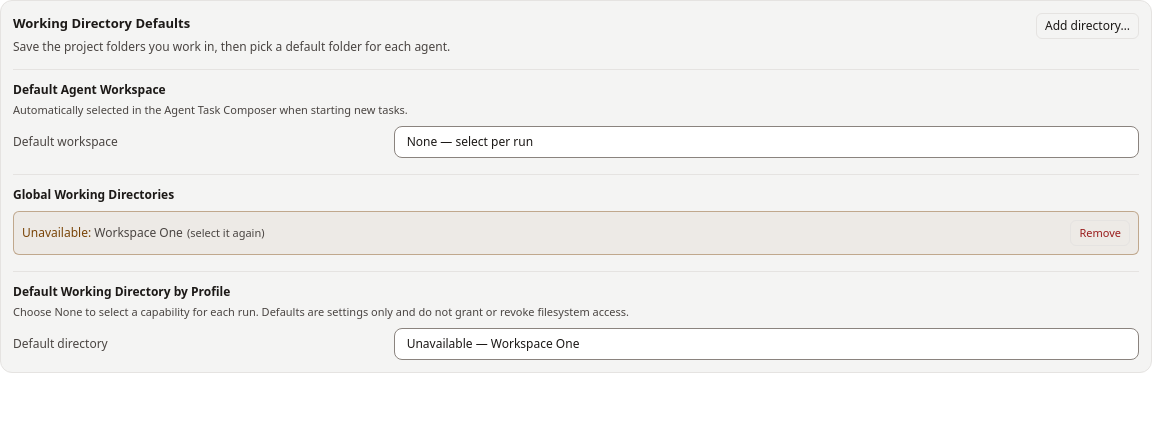
Test: AgentWorkingDirectoriesSettings › recovers a stale saved directory when the native handle is reused, refreshing projection without duplicates
Check: the text "Unavailable:" is shown, box [22,224,91,240]
Click the button "Add directory…" at (1088, 26), box [1036,13,1139,39]
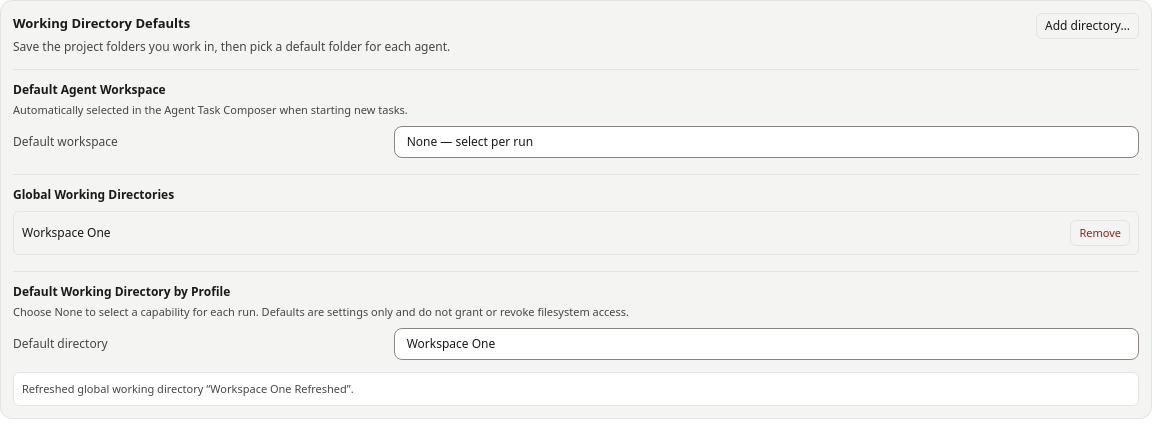
Check: the message reads "Refreshed global working directory “Workspace One Refreshed”.", box [22,380,354,396]
